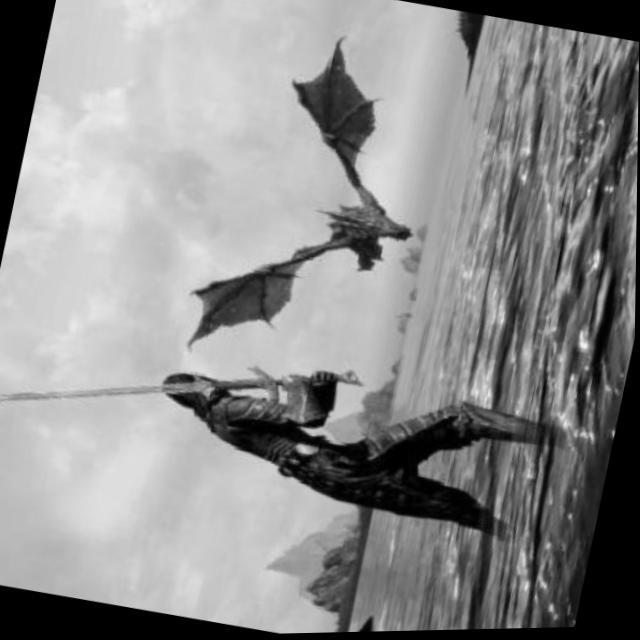weapon: (0, 301, 367, 472)
